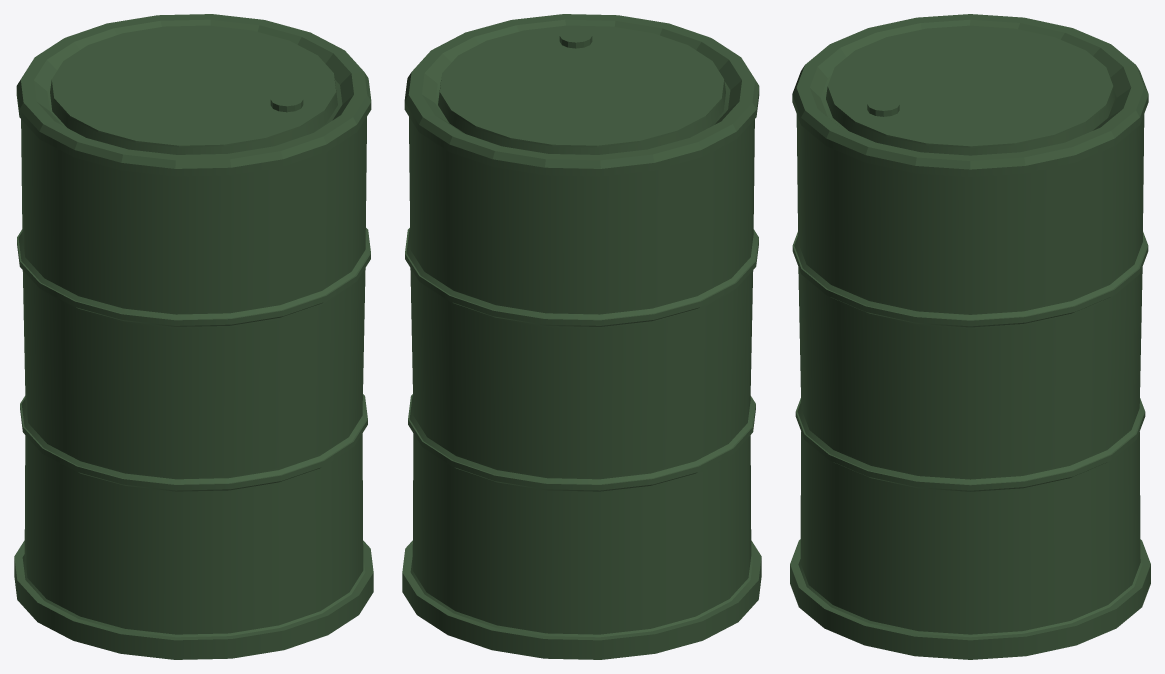
The model's file is barrrel3.fbx.
The picture shows the model from 3 angles, left to right: view 1: azimuth 30°, elevation 25°; view 2: azimuth 150°, elevation 25°; view 3: azimuth 270°, elevation 25°; orthographic projection.
Parts seen in each view (by area): view 1: pCylinder1, pCylinder2; view 2: pCylinder1, pCylinder2; view 3: pCylinder1, pCylinder2.
Part boxes in pixels (<box>): pCylinder1: <box>14,14,373,659</box>; pCylinder2: <box>270,92,303,112</box>; pCylinder1: <box>402,14,761,659</box>; pCylinder2: <box>559,29,592,48</box>; pCylinder1: <box>790,14,1150,659</box>; pCylinder2: <box>867,97,899,116</box>.
Size of the model in its own units: 15.77 by 24.28 by 15.77.
